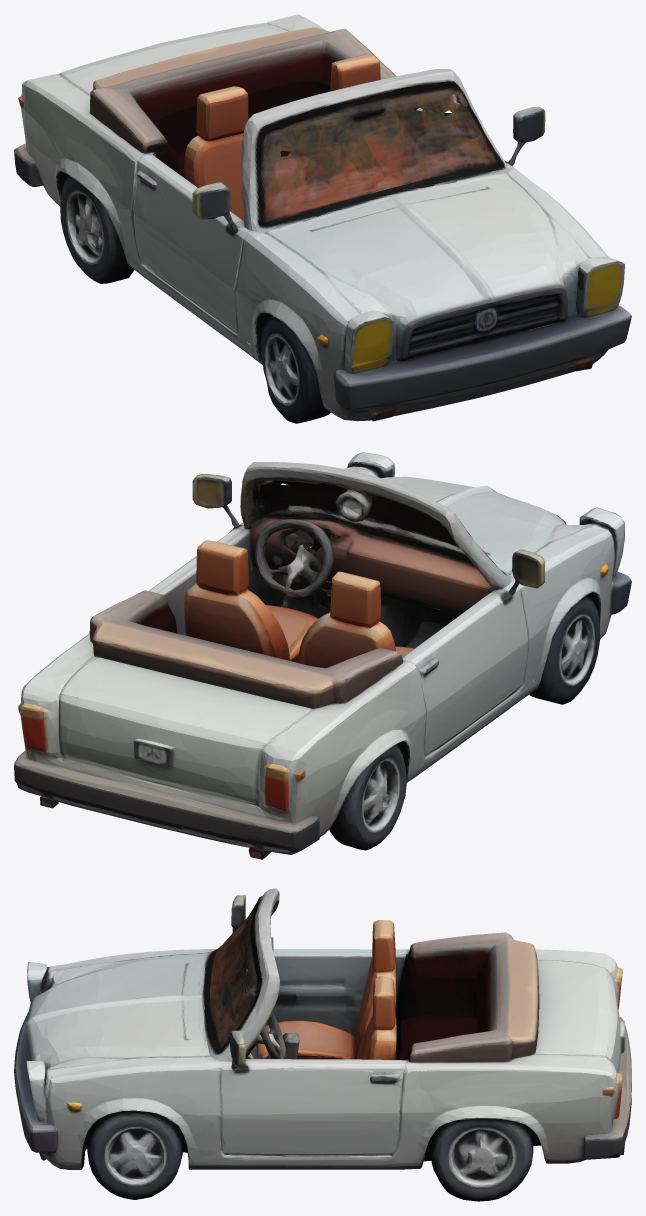
Rendered from normie-kart.glb.
The picture shows the model from 3 angles, top to bottom: view 1: azimuth 30°, elevation 25°; view 2: azimuth 150°, elevation 25°; view 3: azimuth 270°, elevation 25°; orthographic projection. The views are drawn at different scales.
Parts seen in each view (by area): view 1: world; view 2: world; view 3: world.
Part boxes in pixels (<box>): world: <box>14,14,631,423</box>; world: <box>14,452,631,859</box>; world: <box>14,888,631,1201</box>.
Size of the model in its own units: 0.5773 by 0.3902 by 1.
Materials: 1 (1 with a texture image).
